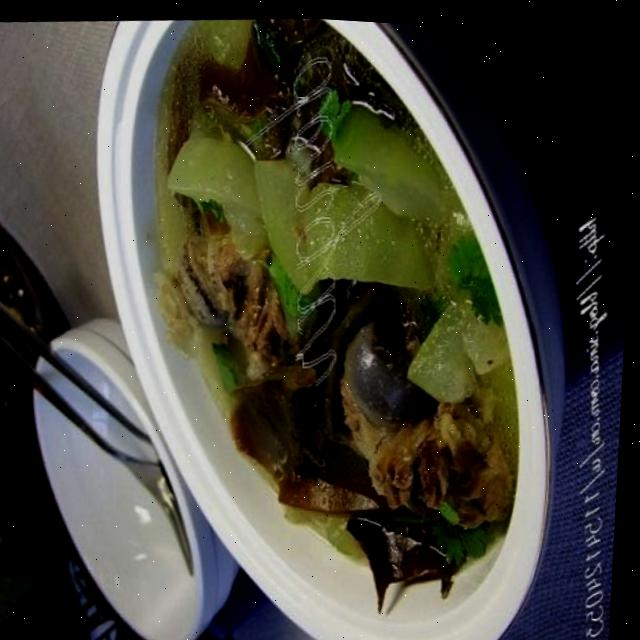汤锅炖物: (43, 3, 597, 640)
